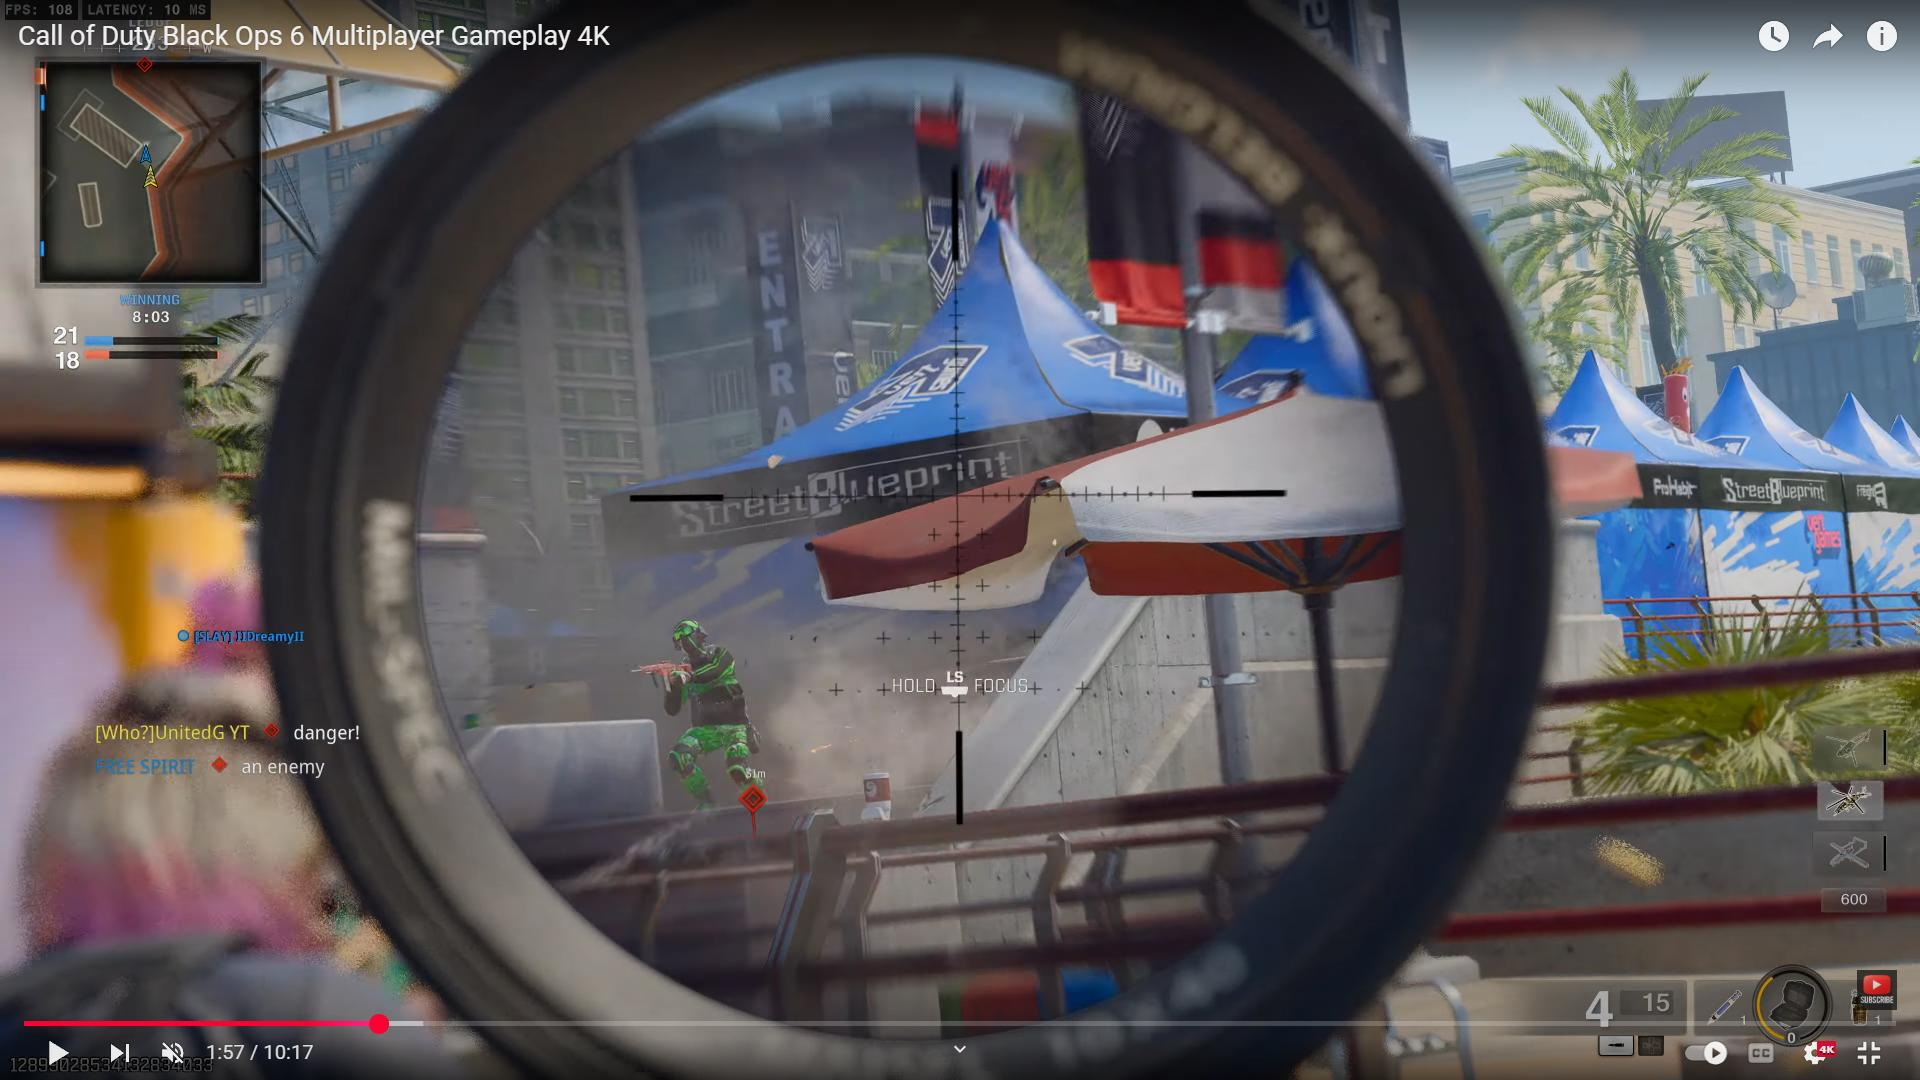Enemy: (640, 612, 769, 800)
